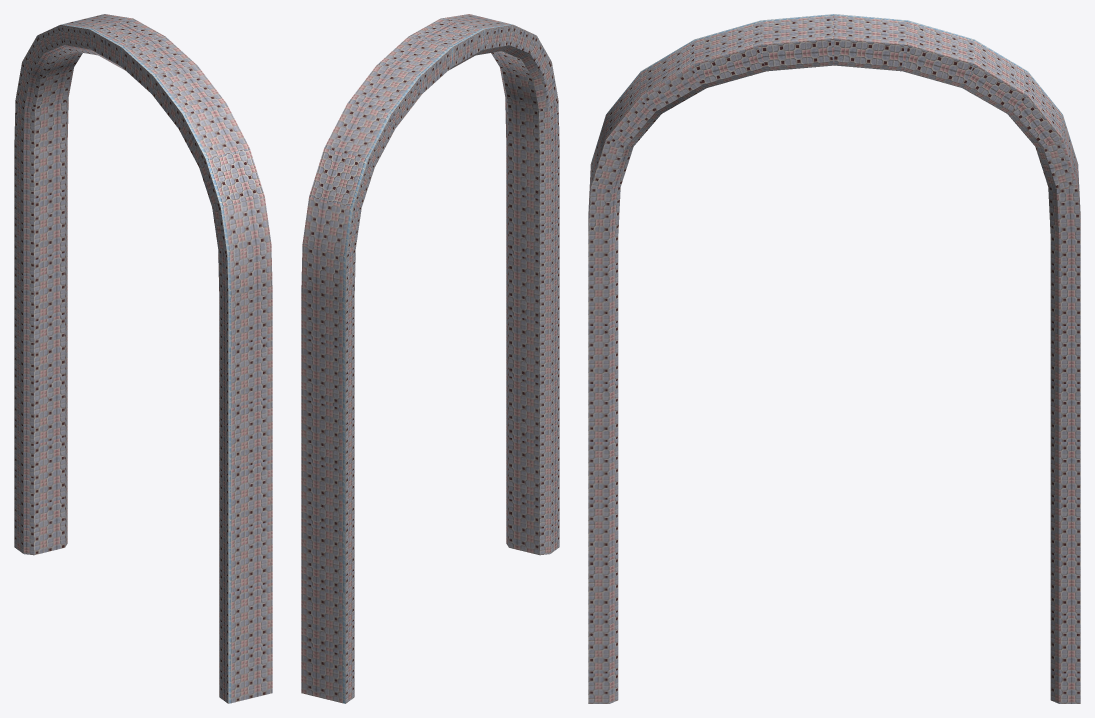
File: doorWay.fbx
3 renders of one model, left to right at view 1: azimuth 30°, elevation 25°; view 2: azimuth 150°, elevation 25°; view 3: azimuth 270°, elevation 25°, orthographic. The views are drawn at different scales.
Visible parts, largest first — view 1: doorWay; view 2: doorWay; view 3: doorWay.
Boxes of the visible parts, x1,y1,x2,y2 form: doorWay: (14, 14, 272, 703); doorWay: (301, 14, 559, 703); doorWay: (588, 14, 1080, 703).
Bounding box in the file's own units: 16.68 × 209 × 140.
1 material, 1 textured.
